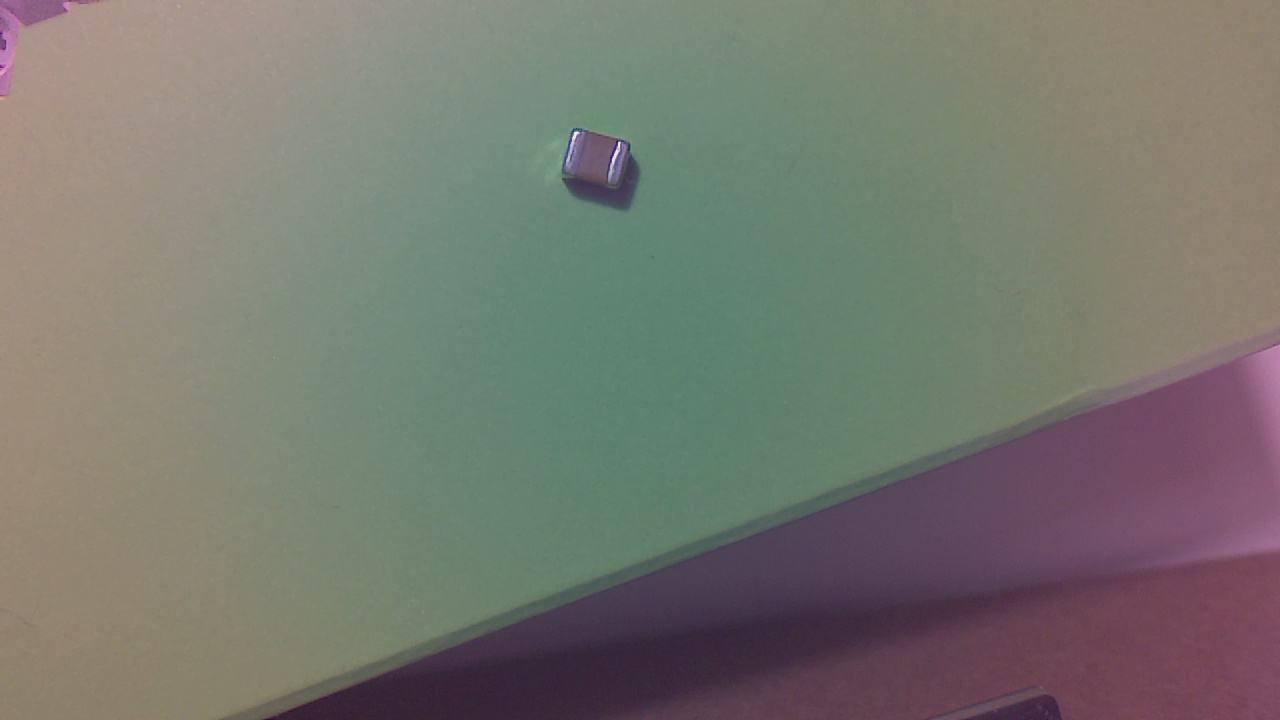Condensator: (564, 133, 641, 201)
